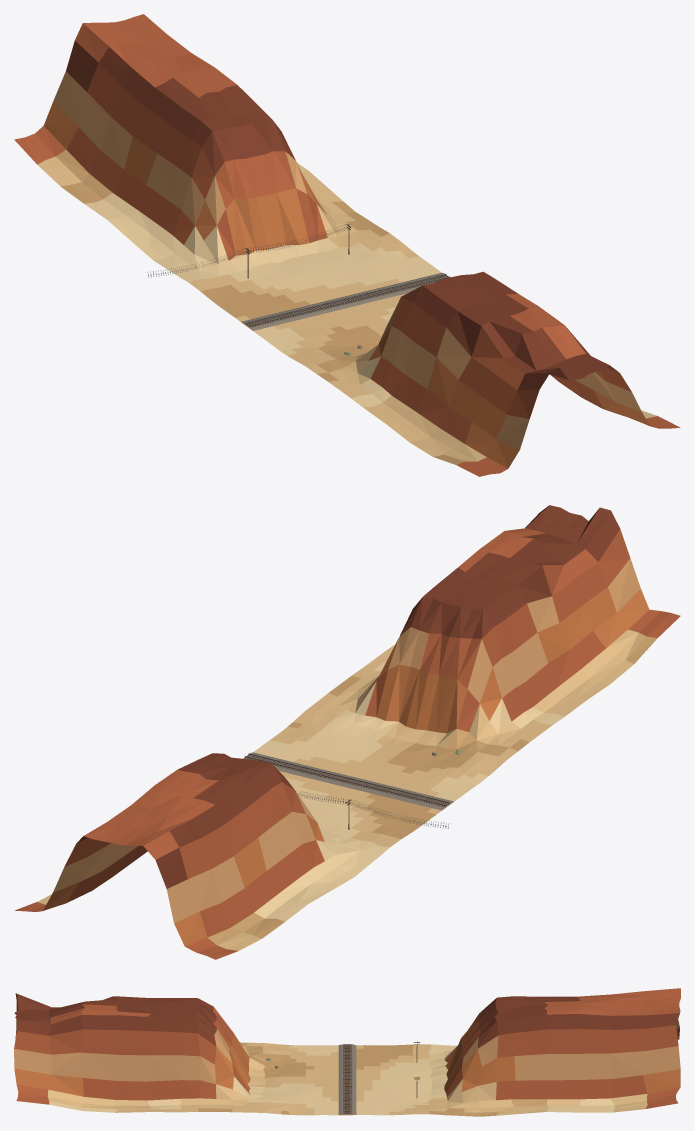
The model's file is Joined Chunck_Canyon_A.fbx.
3 renders of one model, top to bottom at view 1: azimuth 30°, elevation 25°; view 2: azimuth 150°, elevation 25°; view 3: azimuth 270°, elevation 25°, orthographic. The views are drawn at different scales.
Visible parts, largest first — view 1: FG_Chunk_Canyon_A_Track; view 2: FG_Chunk_Canyon_A_Track; view 3: FG_Chunk_Canyon_A_Track.
Part boxes in pixels (bbox=[...]): FG_Chunk_Canyon_A_Track: bbox=[14, 14, 680, 476]; FG_Chunk_Canyon_A_Track: bbox=[15, 505, 680, 959]; FG_Chunk_Canyon_A_Track: bbox=[14, 988, 680, 1116].
Size of the model in its own units: 6250 by 2772 by 20148.
